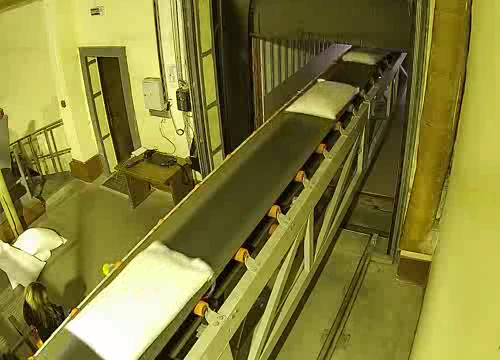bag: (59, 245, 223, 360), (280, 74, 365, 121), (338, 44, 397, 67)
